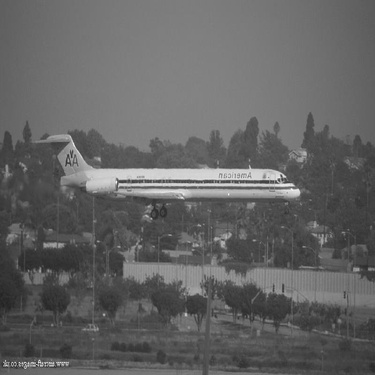airplane: (23, 120, 309, 222)
